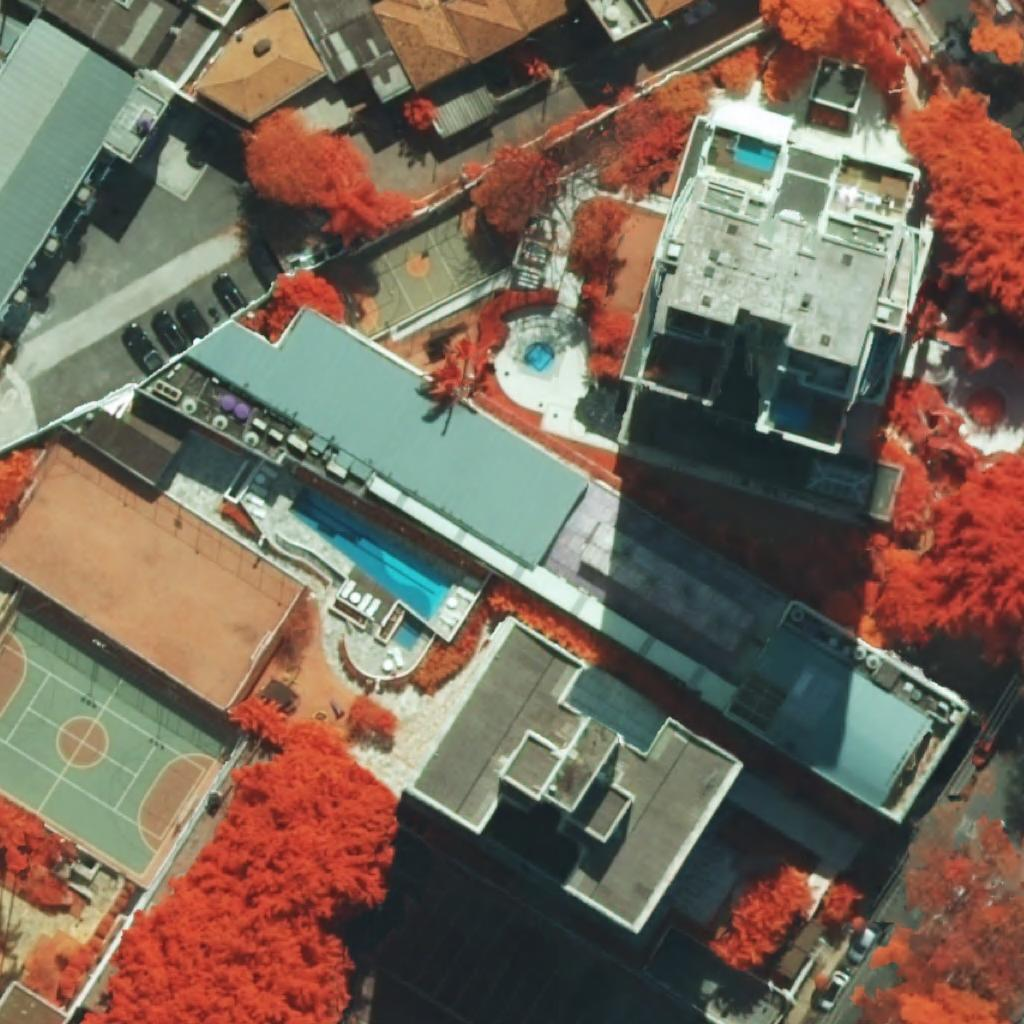pool: (288, 485, 452, 622), (734, 135, 780, 172), (524, 341, 555, 372), (391, 620, 421, 652)
